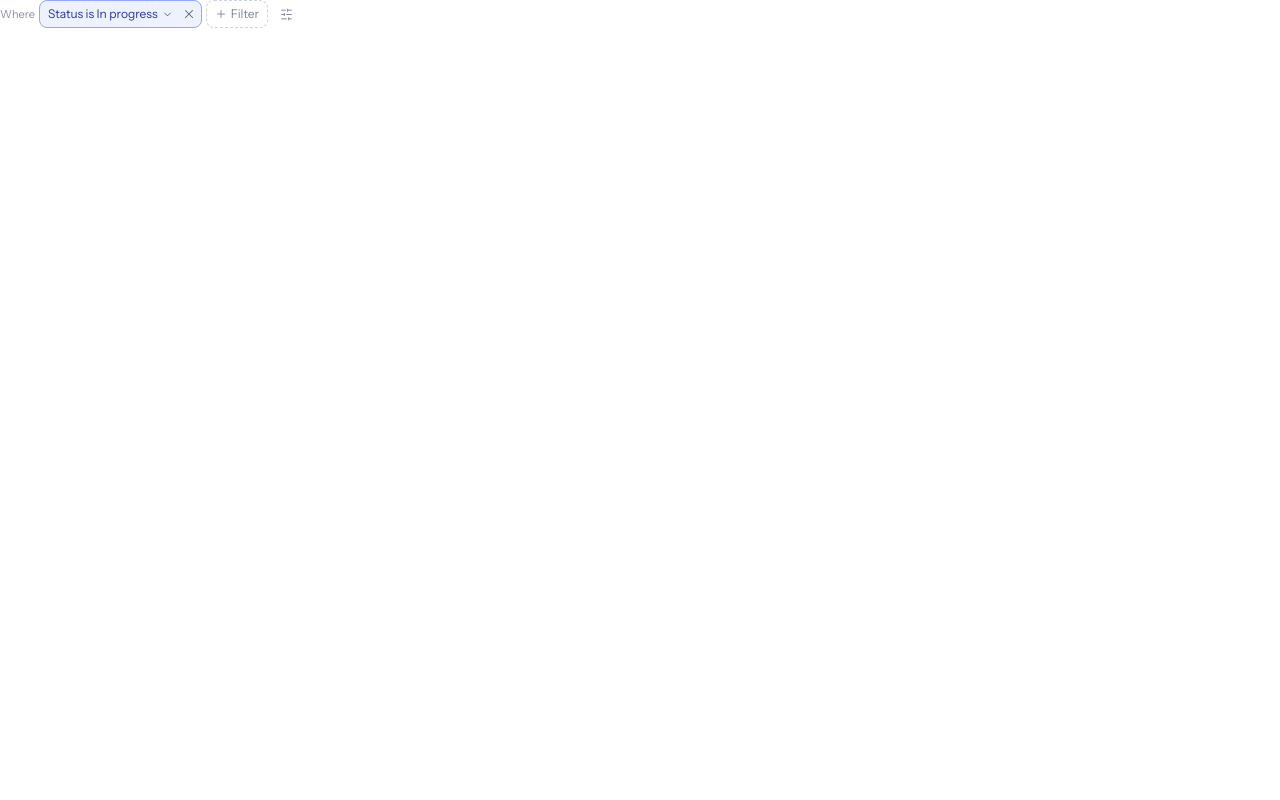
Scenario: Escape unwinds one layer at a time › does the same at the top level
Click the button with test id "filter-chip-0" at (108, 14), box x1=40 y1=1 x2=177 y2=27
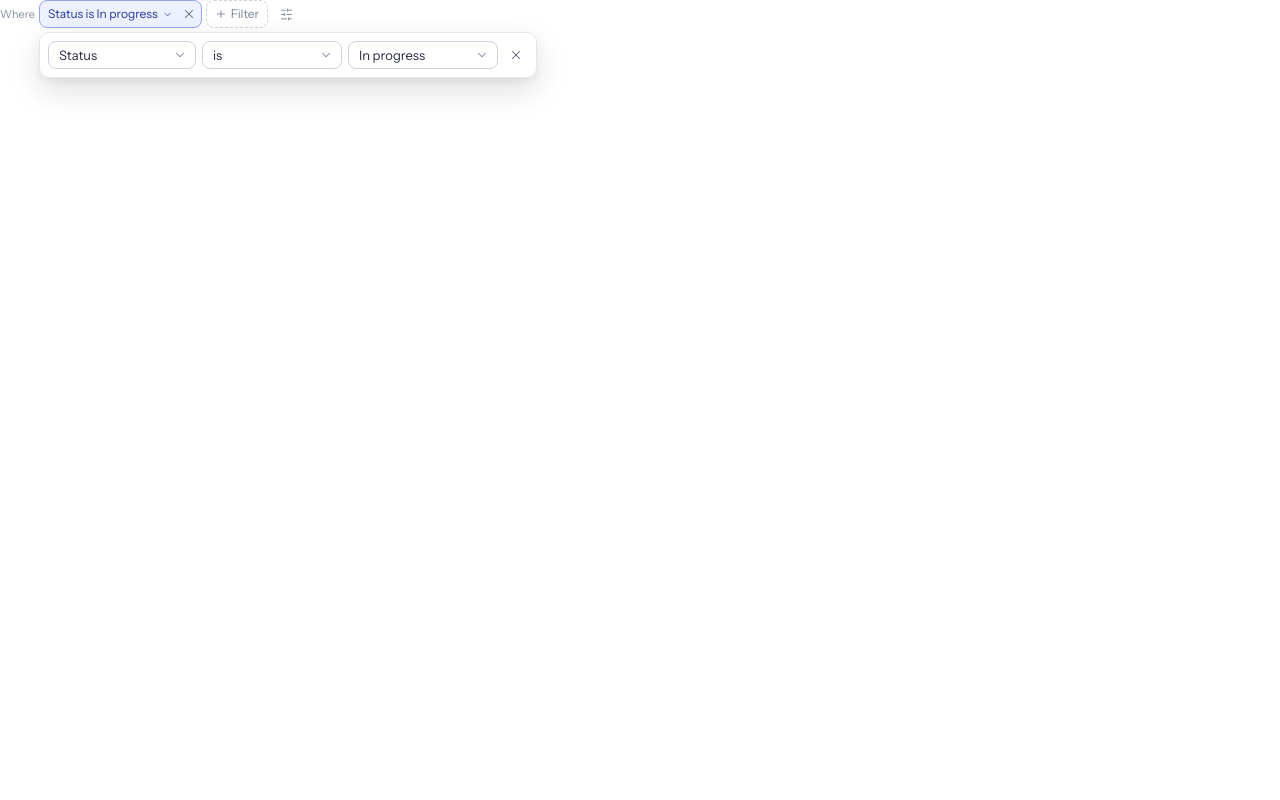
Click the button with aria-label "Filter value" at (423, 55), box x1=348 y1=41 x2=498 y2=69
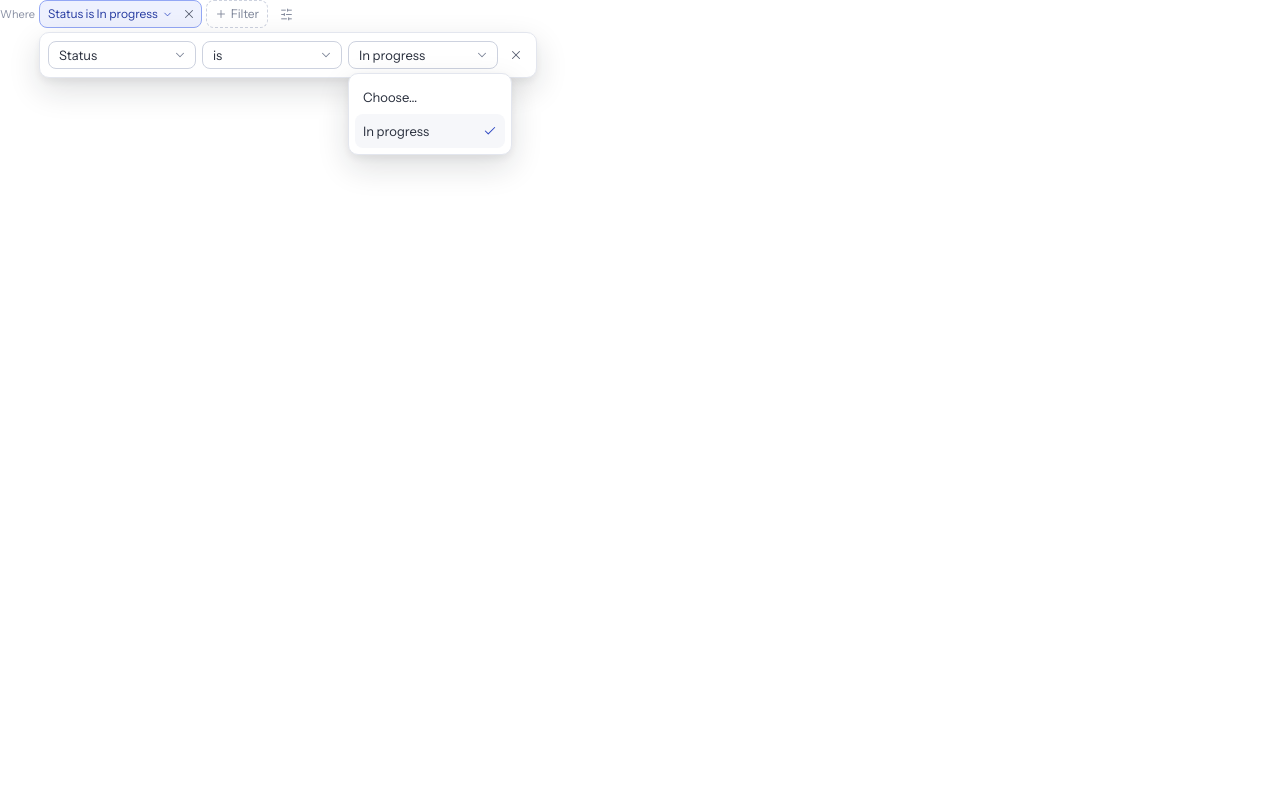
Expected: the list is shown, x1=348 y1=73 x2=512 y2=155
Press Escape
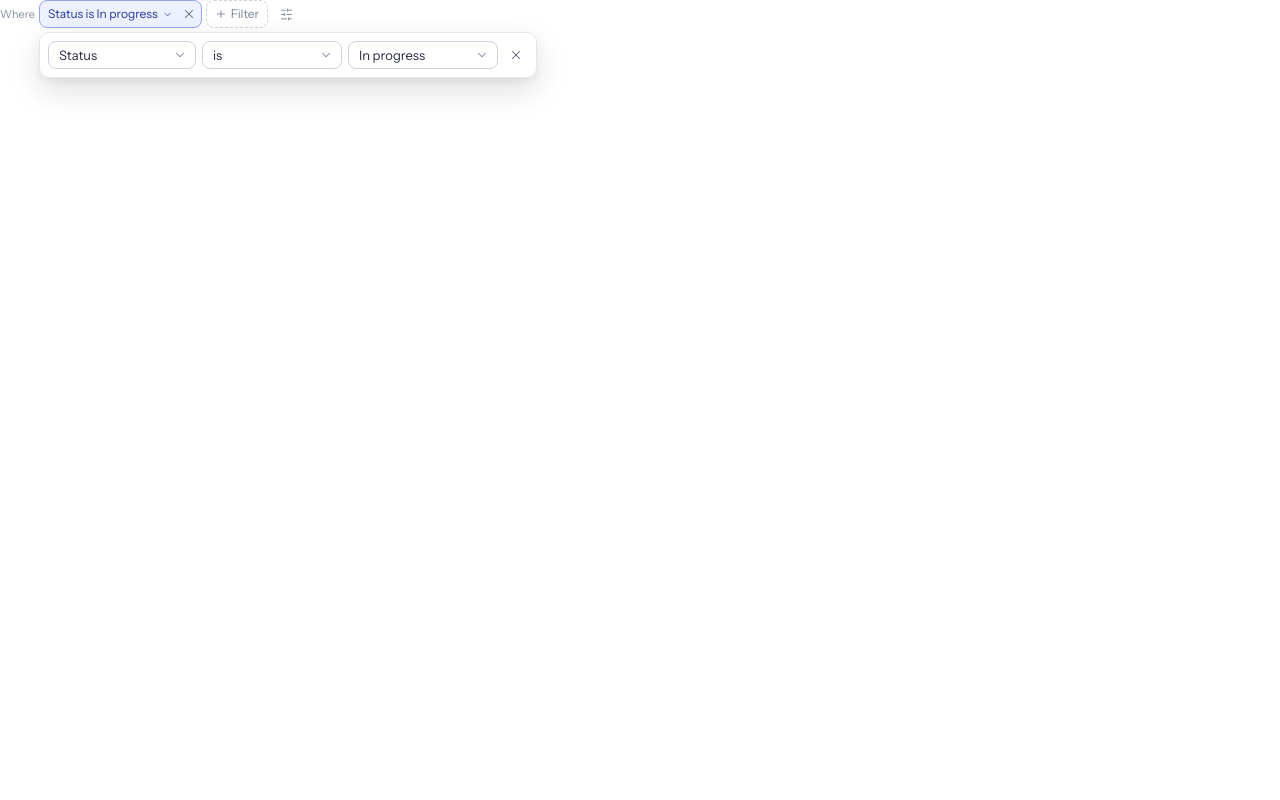
Expected: the dialog named "Edit filter" is shown, x1=39 y1=32 x2=537 y2=78
Expected: the list is gone
